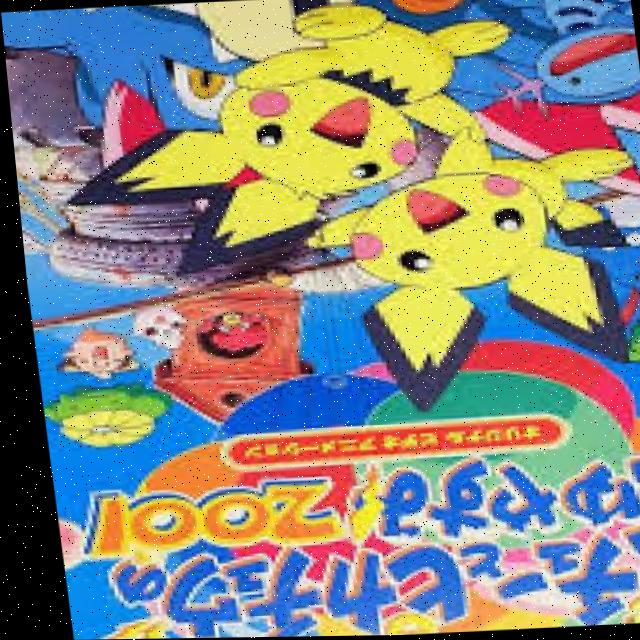pichu: (54, 0, 509, 232), (284, 153, 640, 410)
